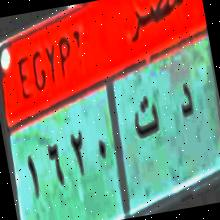0: (93, 132, 115, 180)
1: (20, 146, 46, 202)
2: (63, 125, 94, 182)
6: (43, 135, 70, 201)
daal: (168, 72, 208, 143)
taa: (125, 88, 168, 160)
